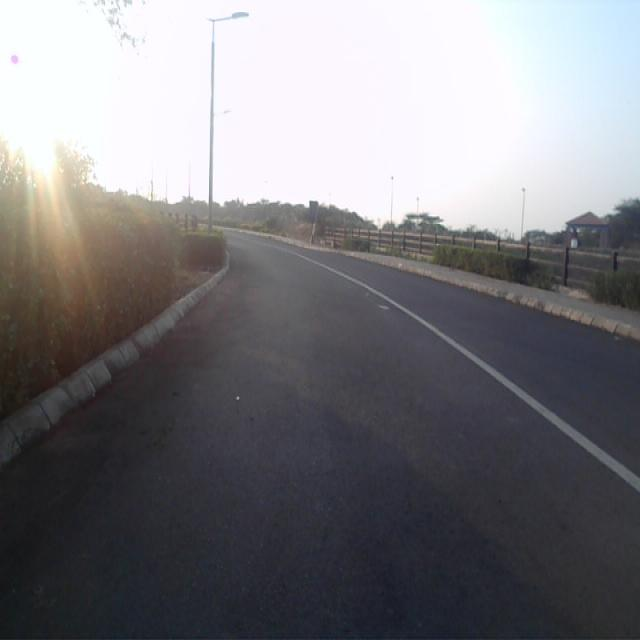lane: (0, 243, 640, 640)
